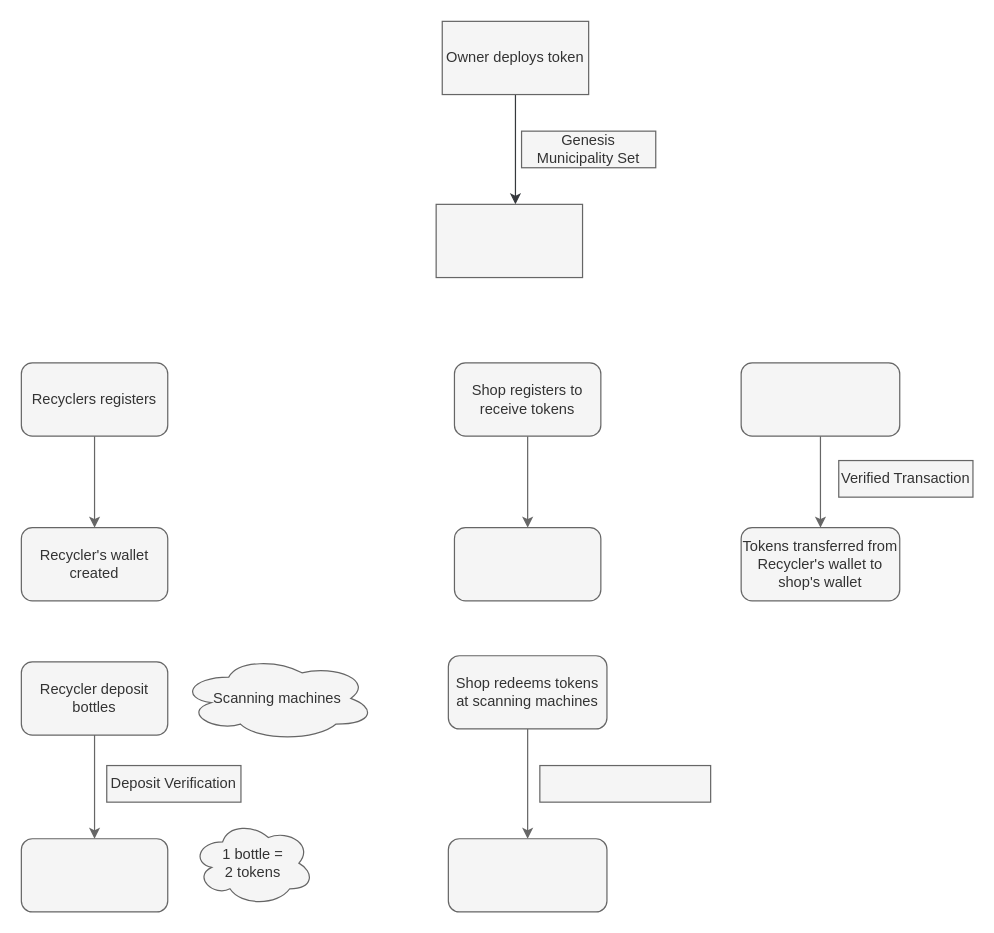
Some shapes in this 994 by 933 pixel diagram are drawn without their labels. The shapes that lost their labels are listed below. From the top down, each one's centre as x and y in pixels, then its label:
At (x=509, y=240): "Genesis Municipality assigns roles and other municipalities".
At (x=820, y=399): "Recycler spends tokens at shop".
At (x=527, y=563): "Shop's wallet created".
At (x=625, y=783): "Machine approves transaction".
At (x=94, y=875): "Recycler receives EcoCoin tokens".
At (x=527, y=875): "Cash payed and redeemed tokens are burned".
